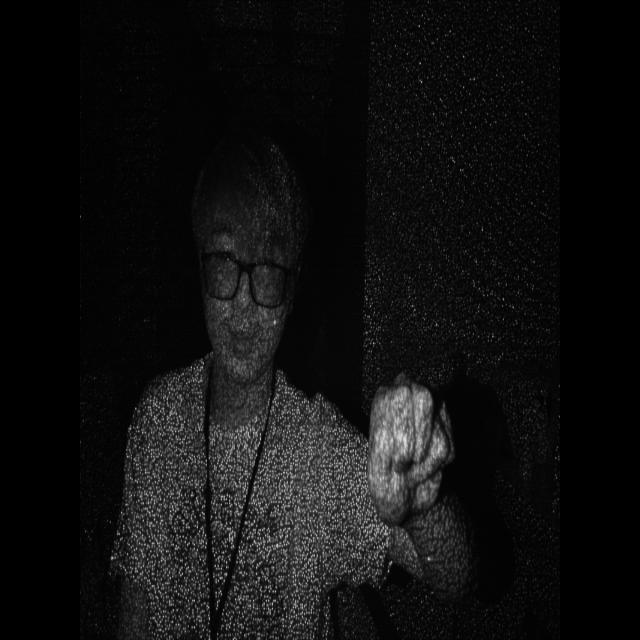M: (360, 351, 461, 548)
